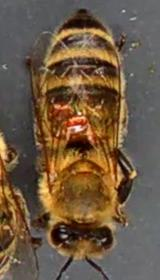varroa_mite: (56, 110, 95, 142)
